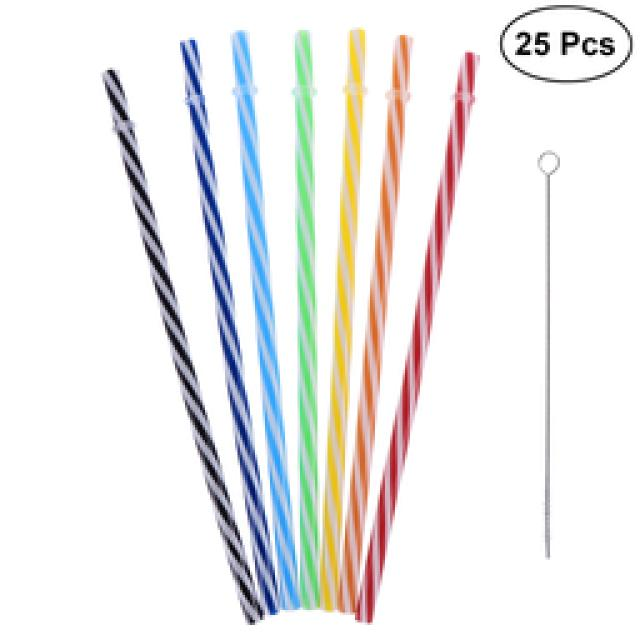plastic: (98, 25, 482, 625), (98, 65, 262, 623), (352, 48, 480, 622), (175, 35, 270, 617), (227, 28, 295, 612), (322, 25, 368, 610), (290, 25, 320, 610), (535, 148, 560, 558)
